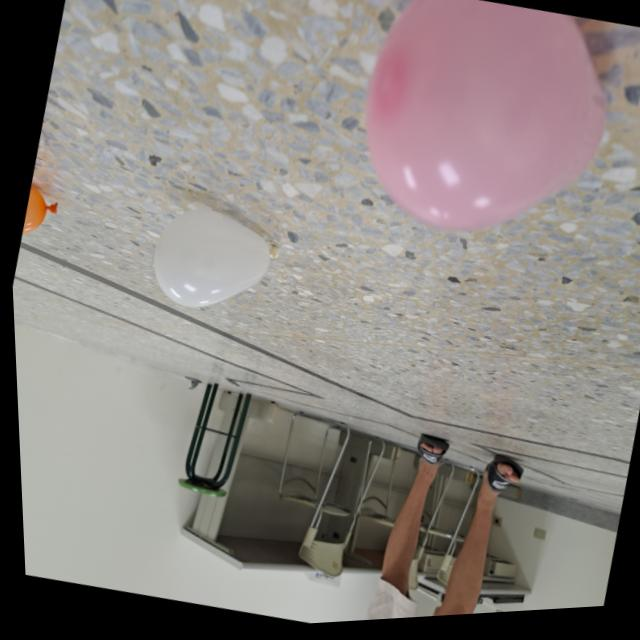other: (333, 0, 636, 274), (139, 197, 286, 329), (15, 177, 63, 255)
